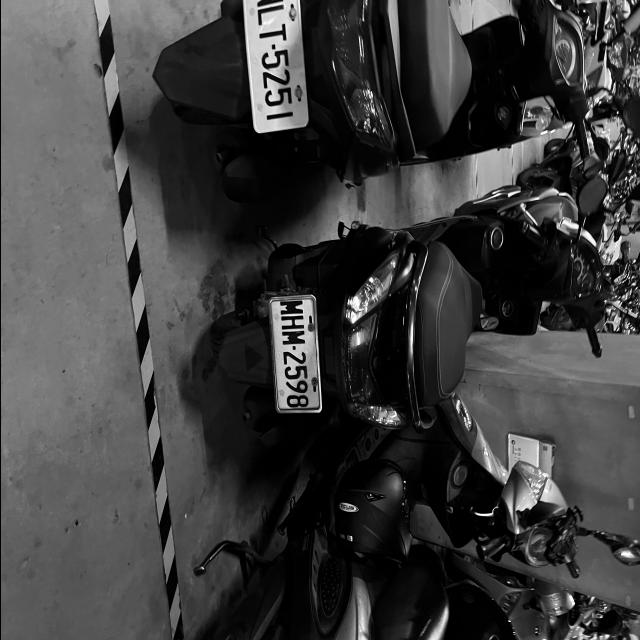-: (270, 44, 276, 50), (292, 345, 296, 351)
1: (264, 110, 292, 122)
2: (262, 70, 290, 88), (282, 351, 304, 365)
5: (260, 49, 289, 71), (264, 88, 292, 110), (284, 364, 308, 380)
8: (284, 394, 308, 408)
9: (285, 380, 307, 393)
H: (280, 314, 304, 330)
L: (256, 6, 284, 27)
M: (280, 300, 302, 316), (282, 332, 304, 346)
T: (258, 25, 286, 43)
plate: (274, 296, 314, 414)
